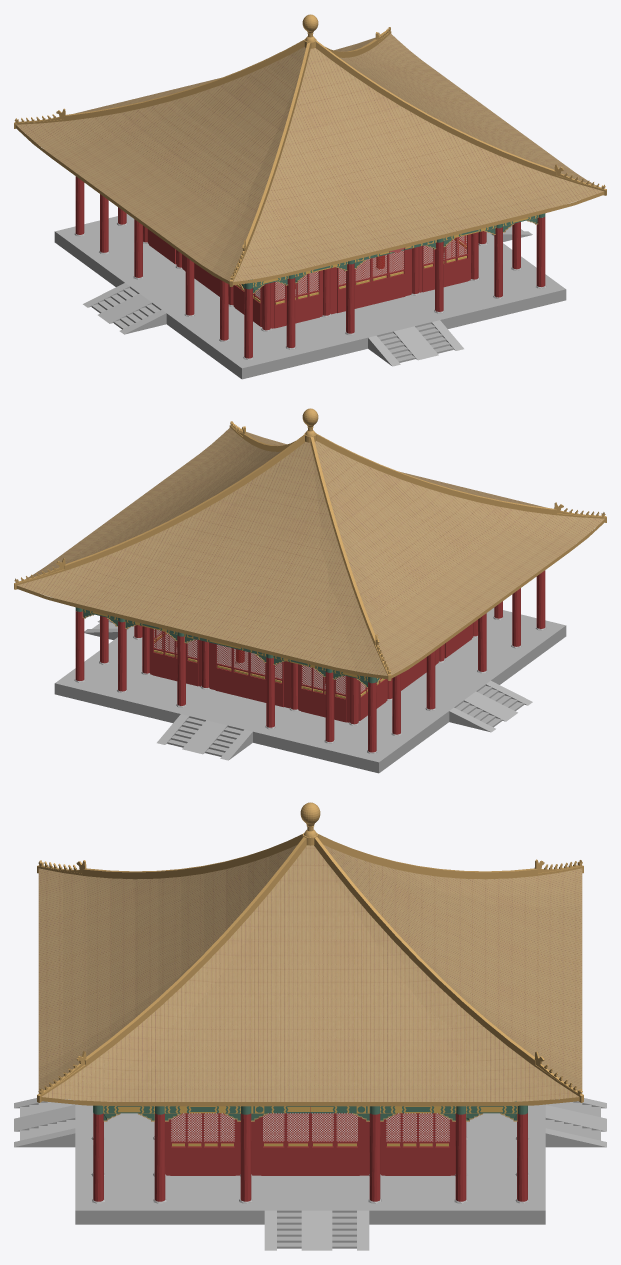
The model's file is 2019_08_08_135350_position_recolor.gltf.
3 renders of one model, top to bottom at view 1: azimuth 30°, elevation 25°; view 2: azimuth 150°, elevation 25°; view 3: azimuth 270°, elevation 25°, orthographic. The views are drawn at different scales.
Parts seen in each view (by area): view 1: polySurface3326:PIV; view 2: polySurface3326:PIV; view 3: polySurface3326:PIV.
Boxes of the visible parts, bbox=[...] form: polySurface3326:PIV: bbox=[14, 14, 606, 379]; polySurface3326:PIV: bbox=[14, 408, 606, 773]; polySurface3326:PIV: bbox=[14, 802, 606, 1250].
Size of what is drawn, in the model's own units: 61.22 by 36.77 by 61.22.
